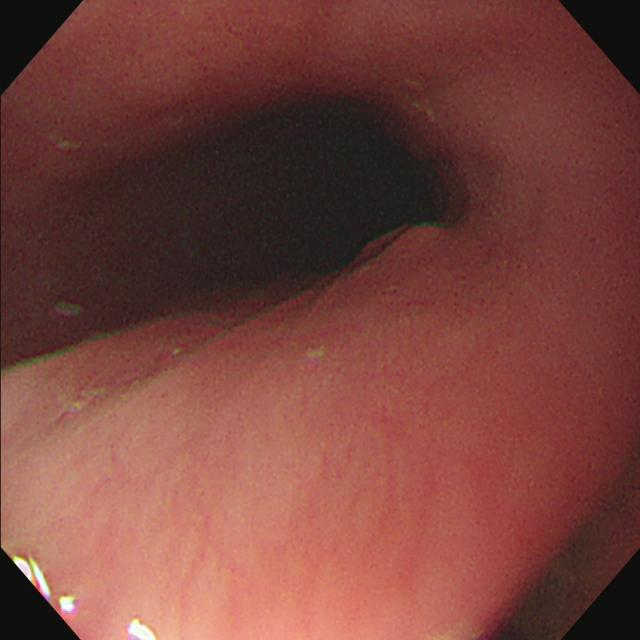E: (210, 65, 485, 300)
U: (12, 553, 52, 603), (128, 617, 159, 640), (59, 595, 78, 617)
